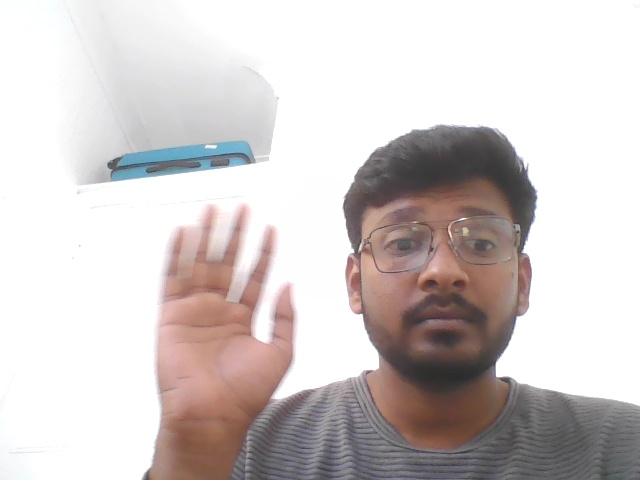Hello: (129, 183, 321, 477)
